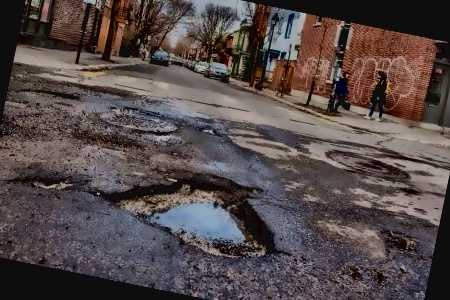pothole: (103, 153, 290, 269), (15, 81, 82, 108), (377, 226, 424, 260), (29, 170, 75, 196), (197, 123, 222, 138)
